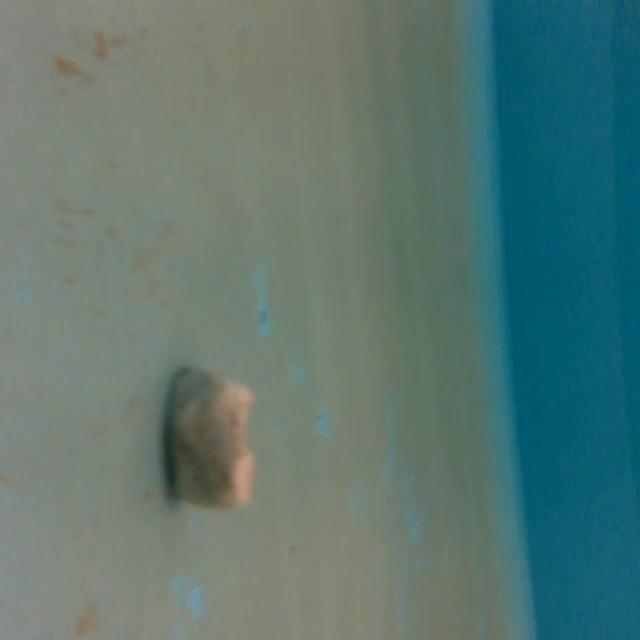rock: (162, 359, 260, 522)
